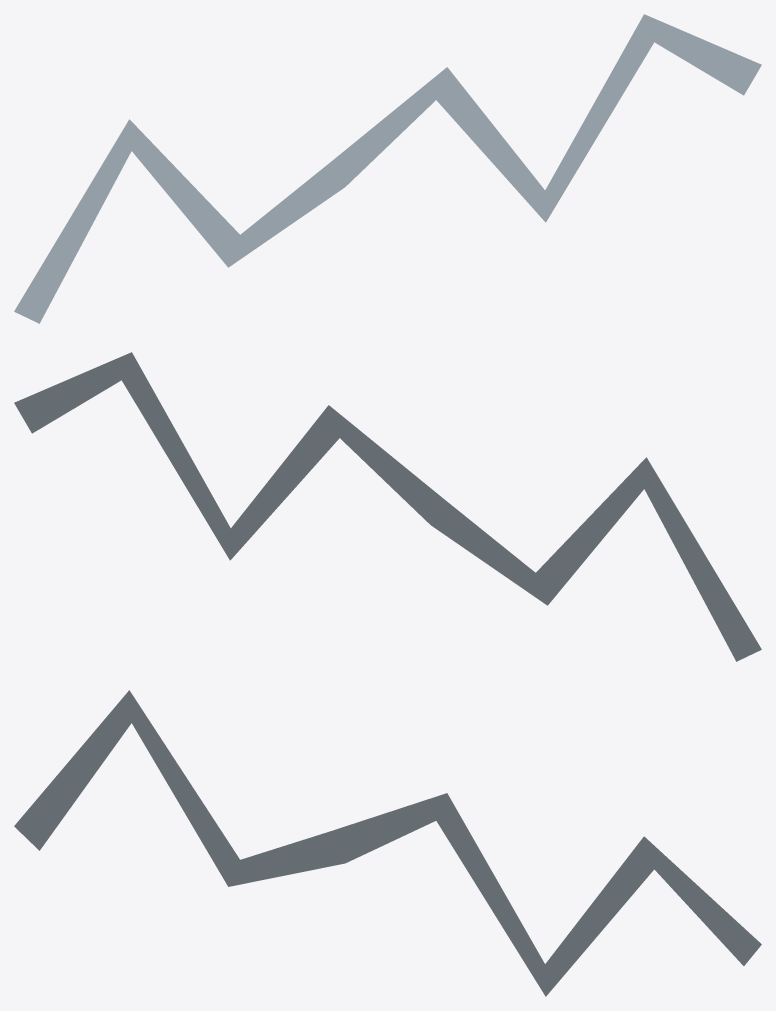
File: 2059_StaticField_GroundArc87.fbx
3 renders of one model, top to bottom at view 1: azimuth 30°, elevation 25°; view 2: azimuth 150°, elevation 25°; view 3: azimuth 330°, elevation 25°, orthographic.
Parts seen in each view (by area): view 1: PART_GroundArc87; view 2: PART_GroundArc87; view 3: PART_GroundArc87.
Boxes of the visible parts, x1,y1,x2,y2 form: PART_GroundArc87: [14, 14, 761, 323]; PART_GroundArc87: [14, 352, 761, 661]; PART_GroundArc87: [14, 690, 761, 996].
Bounding box in the file's own units: 72.11 × 18.92 × 3.08e-06.
